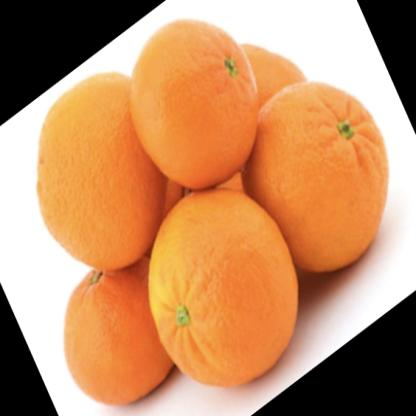fresh: (38, 20, 389, 405)
